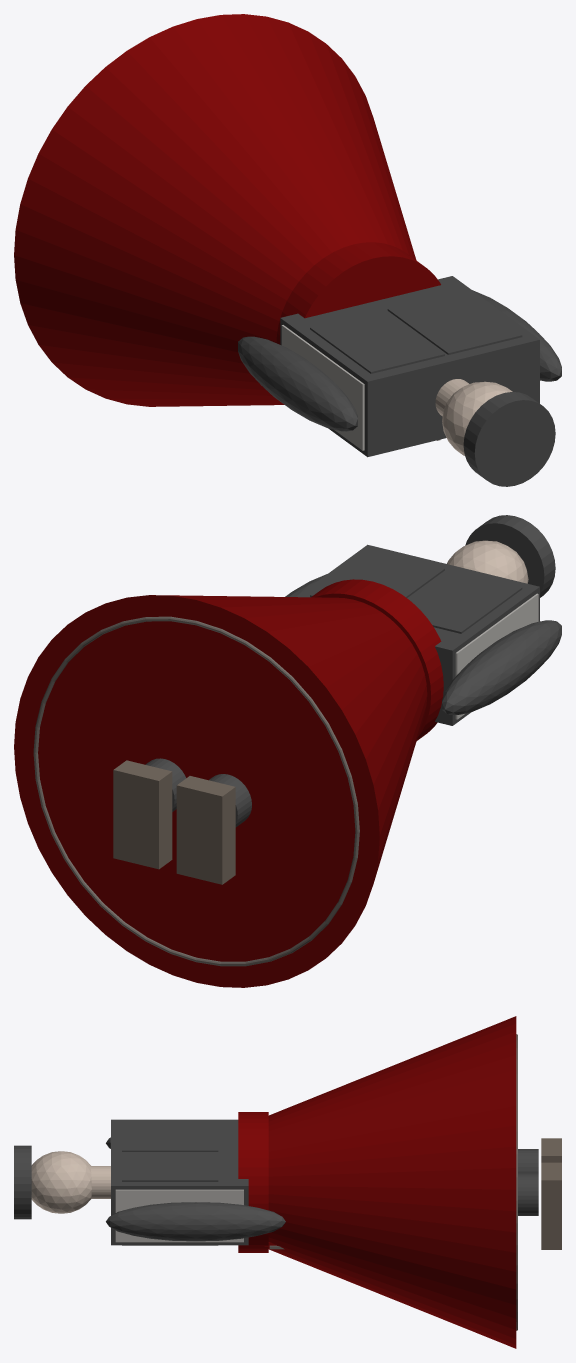
The model's file is MASTER_163_STAGE3_DETAIL.glb.
3 views of the same model, one above another, from view 1: azimuth 30°, elevation 25°; view 2: azimuth 150°, elevation 25°; view 3: azimuth 270°, elevation 25° (orthographic). The views are drawn at different scales.
Parts seen in each view (by area): view 1: slot_lower_main__fund_i_gjatë, slot_upper_inner__këmishë, slot_waist__brez, slot_headwear__mbulesë_koke, slot_upper_inner_sleeve_L, slot_upper_outer__jelek/xhamadan_R, slot_upper_outer__jelek/xhamadan_L, mannequin_torso, mannequin_head, slot_upper_inner_sleeve_R; view 2: slot_lower_main__fund_i_gjatë, slot_footwear__opinga_R, slot_footwear__opinga_L, slot_upper_inner_sleeve_L, detail_skirt_hem, slot_waist__brez, slot_upper_inner__këmishë, slot_upper_outer__jelek/xhamadan_L, slot_headwear__mbulesë_koke, slot_upper_outer__jelek/xhamadan_R, mannequin_head, mannequin_torso (+2 smaller); view 3: slot_lower_main__fund_i_gjatë, slot_upper_inner_sleeve_R, slot_upper_inner__këmishë, mannequin_head, slot_waist__brez, slot_upper_outer__jelek/xhamadan_R, slot_upper_outer__jelek/xhamadan_L, mannequin_torso, slot_footwear__opinga_R, slot_headwear__mbulesë_koke, slot_legwear__çorape_R, mannequin_neck (+3 smaller).
Part boxes in pixels (left/top/right/bottom): slot_lower_main__fund_i_gjatë: left=14, top=14, right=416, bottom=406; slot_upper_inner__këmishë: left=280, top=276, right=539, bottom=457; slot_waist__brez: left=276, top=242, right=440, bottom=344; slot_headwear__mbulesë_koke: left=463, top=392, right=555, bottom=486; slot_upper_inner_sleeve_L: left=238, top=336, right=357, bottom=431; slot_upper_outer__jelek/xhamadan_R: left=387, top=290, right=522, bottom=354; slot_upper_outer__jelek/xhamadan_L: left=310, top=309, right=444, bottom=373; mannequin_torso: left=281, top=325, right=364, bottom=450; mannequin_head: left=442, top=381, right=512, bottom=455; slot_upper_inner_sleeve_R: left=472, top=290, right=561, bottom=381; slot_lower_main__fund_i_gjatë: left=14, top=595, right=427, bottom=987; slot_footwear__opinga_R: left=113, top=760, right=172, bottom=869; slot_footwear__opinga_L: left=176, top=776, right=235, bottom=884; slot_upper_inner_sleeve_L: left=442, top=620, right=561, bottom=715; detail_skirt_hem: left=33, top=616, right=359, bottom=966; slot_waist__brez: left=311, top=579, right=443, bottom=740; slot_upper_inner__këmishë: left=296, top=544, right=539, bottom=725; slot_upper_outer__jelek/xhamadan_L: left=408, top=569, right=522, bottom=633; slot_headwear__mbulesë_koke: left=465, top=515, right=555, bottom=597; slot_upper_outer__jelek/xhamadan_R: left=310, top=550, right=444, bottom=597; mannequin_head: left=447, top=540, right=528, bottom=583; mannequin_torso: left=455, top=593, right=538, bottom=719; slot_lower_main__fund_i_gjatë: left=268, top=1016, right=516, bottom=1348; slot_upper_inner_sleeve_R: left=106, top=1202, right=285, bottom=1241; slot_upper_inner__këmishë: left=111, top=1119, right=248, bottom=1245; mannequin_head: left=31, top=1151, right=91, bottom=1213; slot_waist__brez: left=238, top=1112, right=268, bottom=1252; slot_upper_outer__jelek/xhamadan_R: left=122, top=1152, right=218, bottom=1245; slot_upper_outer__jelek/xhamadan_L: left=122, top=1122, right=218, bottom=1151; mannequin_torso: left=115, top=1189, right=243, bottom=1242; slot_footwear__opinga_R: left=541, top=1162, right=561, bottom=1249; slot_headwear__mbulesë_koke: left=14, top=1145, right=31, bottom=1219; slot_legwear__çorape_R: left=518, top=1173, right=538, bottom=1215; mannequin_neck: left=91, top=1166, right=110, bottom=1198.
Bounding box in the file's own units: 1.04 × 1.04 × 1.71.
